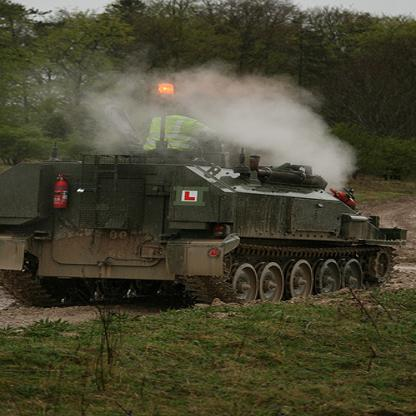Tank: (2, 143, 407, 306)
